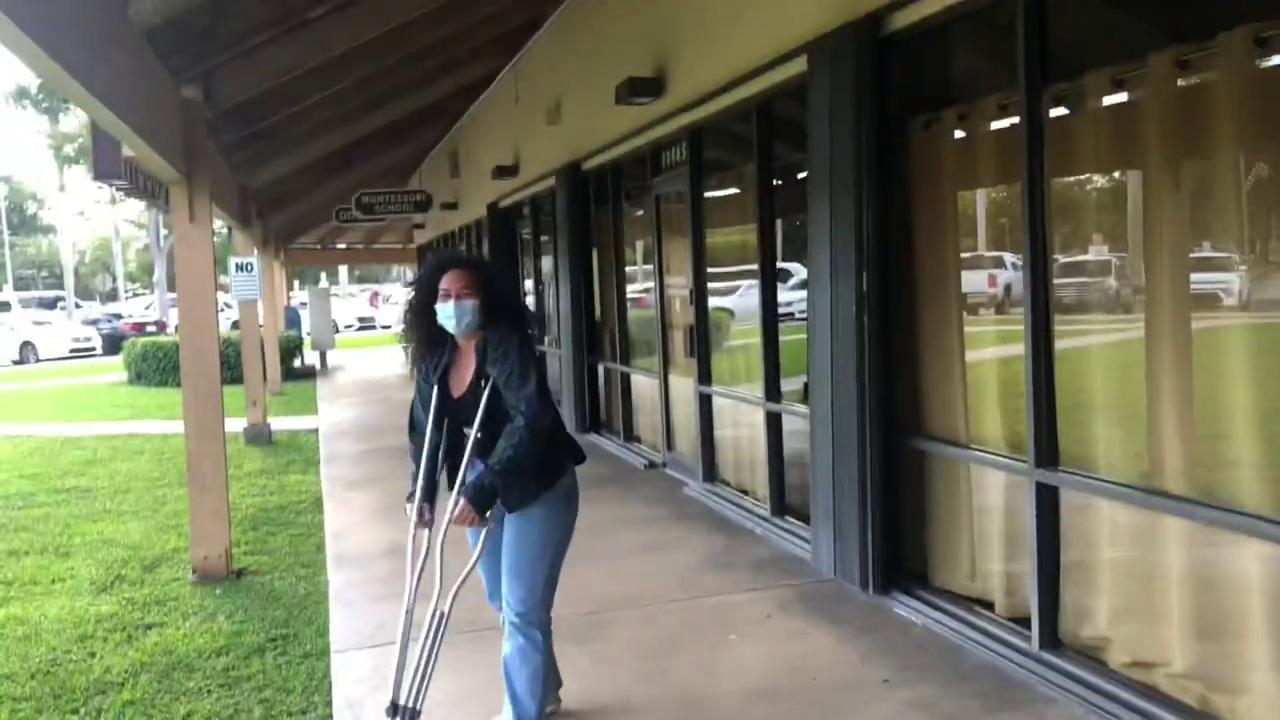crutches: (378, 258, 581, 719)
